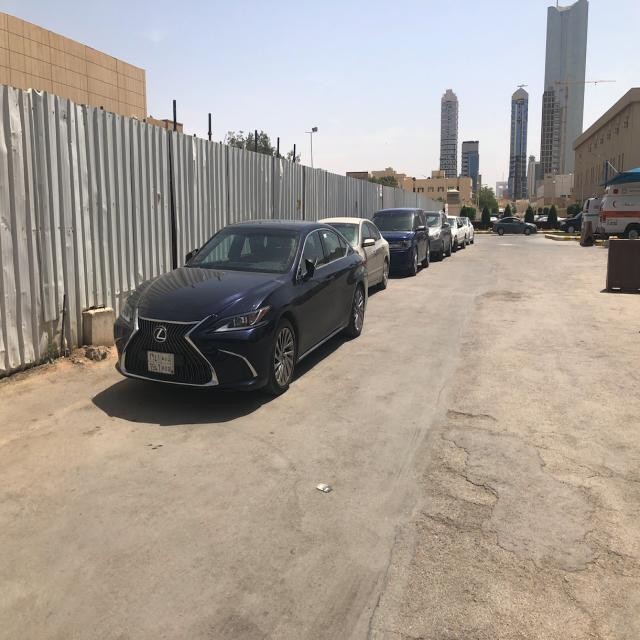license_plate: (140, 347, 180, 377)
